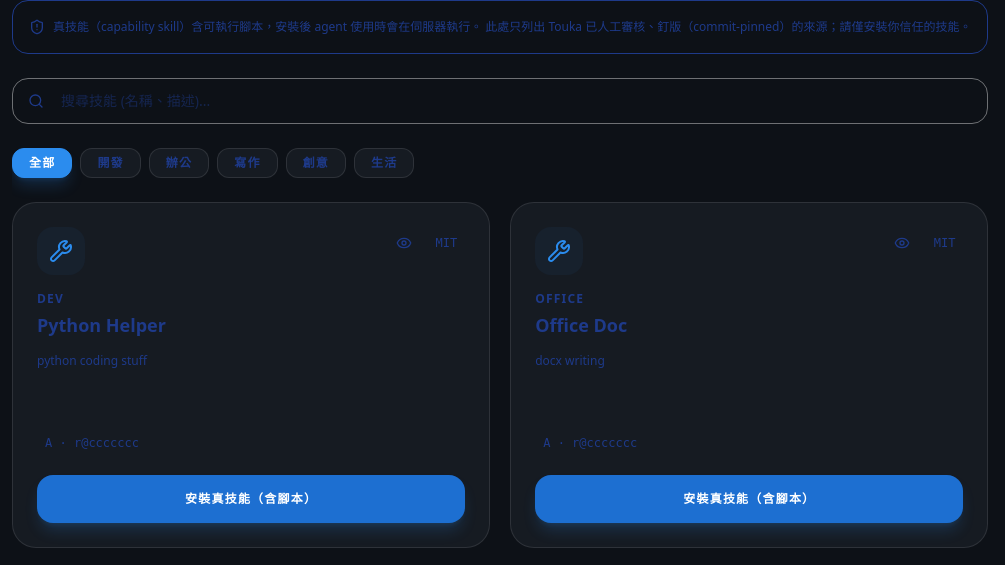
SkillCatalogView B3：搜尋 › 依名稱/描述過濾
In the field labelled "搜尋技能 (名稱、描述)...": (500, 100) [12, 78, 988, 124], type "python"
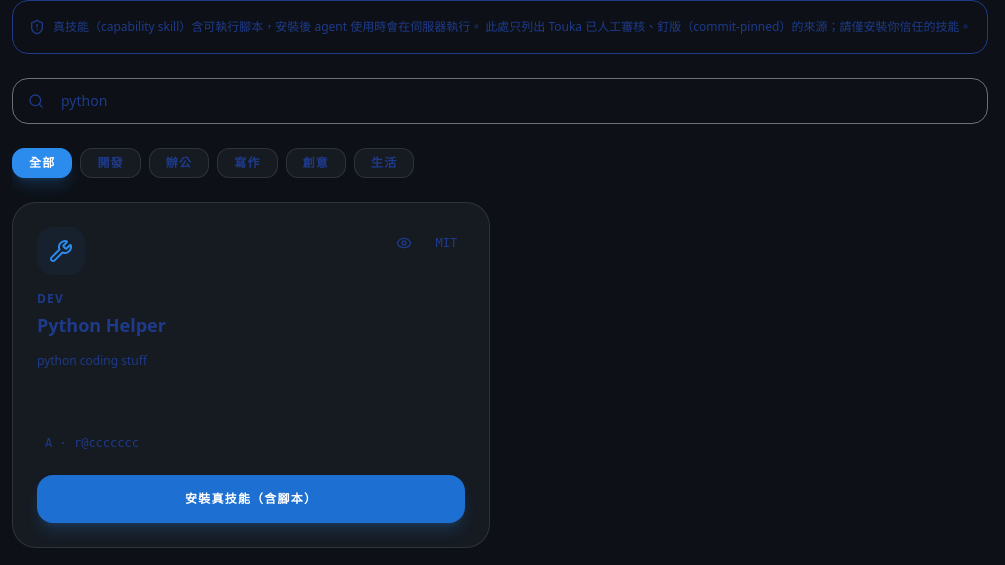
Expected: the heading "Python Helper" is shown, [37, 312, 166, 336]
Result: the heading "Office Doc" is gone
